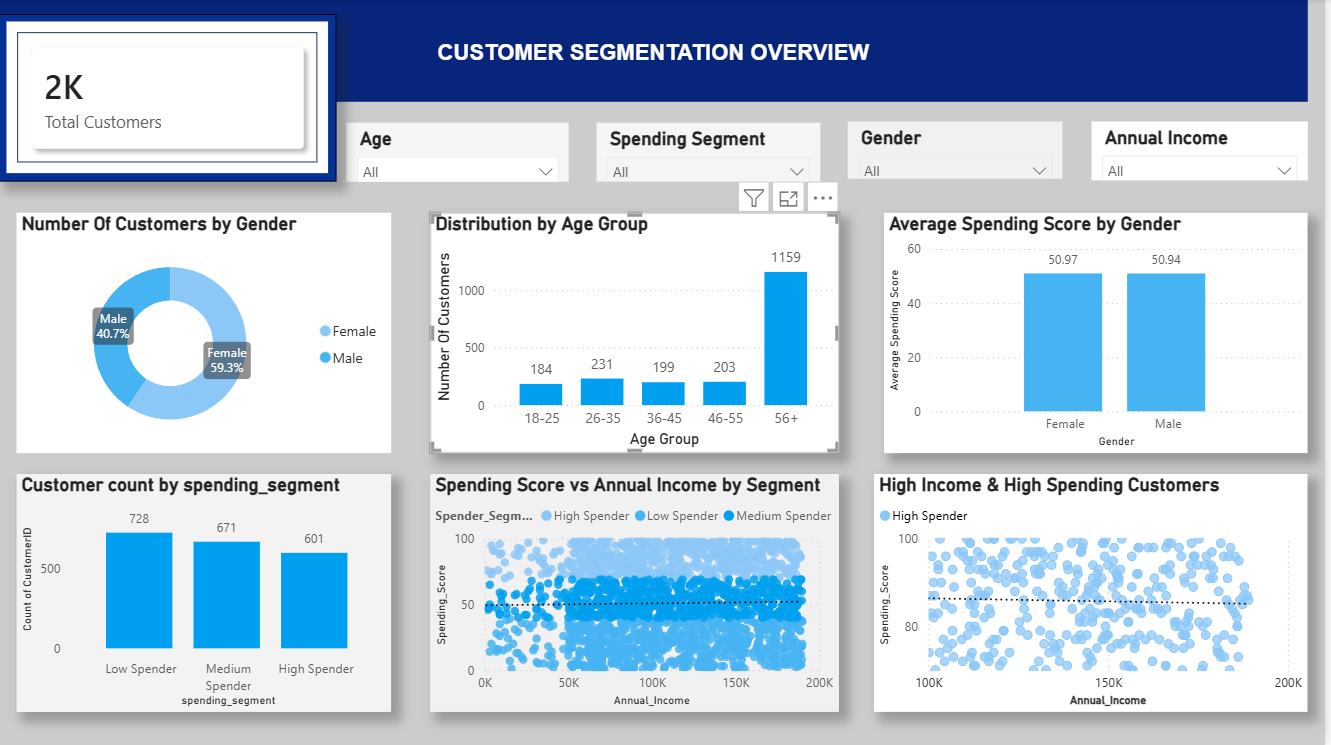

The page's visual inventory and layout, read from the dashboard file:
{"tool":"powerbi","page":{"name":"Page 1","canvas":[1280,720],"ordinal":0},"visuals":[{"type":"clusteredColumnChart","title":"Distribution by Age Group ","fields":{"Category":["Table 1 (Age Distribution Query).AgeGroup"],"Y":["Sum(Table 1 (Age Distribution Query).NumberOfCustomers)"]},"box":[416.2,206.3,394.5,231.6],"z":0},{"type":"clusteredColumnChart","title":"Average Spending Score  by Gender","fields":{"Category":["Average spending by Gender Query.Gender"],"Y":["Avg(Average spending by Gender Query.AvgSpendingScore)"]},"box":[854.2,206.3,409,231.6],"z":1000},{"type":"scatterChart","title":"Spending Score vs Annual Income by Segment","fields":{"X":["Spending score vrs Annual income.Annual_Income"],"Y":["Spending score vrs Annual income.Spending_Score"],"Series":["Spending score vrs Annual income.Spender_Segment"]},"box":[416.2,458.4,394.5,229.2],"z":2000},{"type":"columnChart","title":"Customer count by spending_segment","fields":{"Category":["Spending segment.spending_segment"],"Y":["CountNonNull(Spending segment.CustomerID)"]},"box":[16.9,458.4,361.9,229.2],"z":3000},{"type":"scatterChart","title":"High Income & High Spending Customers","fields":{"X":["Spending score vrs Annual income.Annual_Income"],"Y":["Spending score vrs Annual income.Spending_Score"],"Series":["Spending score vrs Annual income.Spender_Segment"]},"box":[844.5,458.4,418.6,229.2],"z":4000},{"type":"textbox","box":[0,0,1263.1,98.9],"z":5000},{"type":"donutChart","title":"Number Of Customers by Gender","fields":{"Category":["Table 1 (Gender Distribution Query).Gender"],"Y":["Sum(Table 1 (Gender Distribution Query).NumberOfCustomers)"]},"box":[16.9,206.3,361.9,231.6],"z":6000},{"type":"slicer","fields":{"Values":["Spending segment.spending_segment"]},"box":[576.7,119.4,216,56.7],"z":7000},{"type":"slicer","fields":{"Values":["Spending segment.Age"]},"box":[335.4,119.4,214.7,56.7],"z":8000},{"type":"slicer","fields":{"Values":["Table 1 (Gender Distribution Query).Gender"]},"box":[819.2,118.2,207.5,55.5],"z":9000},{"type":"slicer","fields":{"Values":["Spending segment.Annual_Income"]},"box":[1054.4,118.2,208.7,56.7],"z":10000},{"type":"cardVisual","title":"Total Custumers","fields":{"Data":["Sum(Table 1 (Gender Distribution Query).NumberOfCustomers)"]},"box":[0,14.5,325.7,161.7],"z":11000}]}

Visuals, with their boxes in screenshot pixels (x1, y1, x2, y2), scaled from the page's 1280x720 canvas onto the 1331x745 screenshot:
"Distribution by Age Group " clusteredColumnChart: BBox(433, 213, 843, 453)
"Average Spending Score  by Gender" clusteredColumnChart: BBox(888, 213, 1314, 453)
"Spending Score vs Annual Income by Segment" scatterChart: BBox(433, 474, 843, 711)
"Customer count by spending_segment" columnChart: BBox(18, 474, 394, 711)
"High Income & High Spending Customers" scatterChart: BBox(878, 474, 1313, 711)
textbox: BBox(0, 0, 1313, 102)
"Number Of Customers by Gender" donutChart: BBox(18, 213, 394, 453)
slicer - Spending segment.spending_segment: BBox(600, 124, 824, 182)
slicer - Spending segment.Age: BBox(349, 124, 572, 182)
slicer - Table 1 (Gender Distribution Query).Gender: BBox(852, 122, 1068, 180)
slicer - Spending segment.Annual_Income: BBox(1096, 122, 1313, 181)
"Total Custumers" cardVisual: BBox(0, 15, 339, 182)
